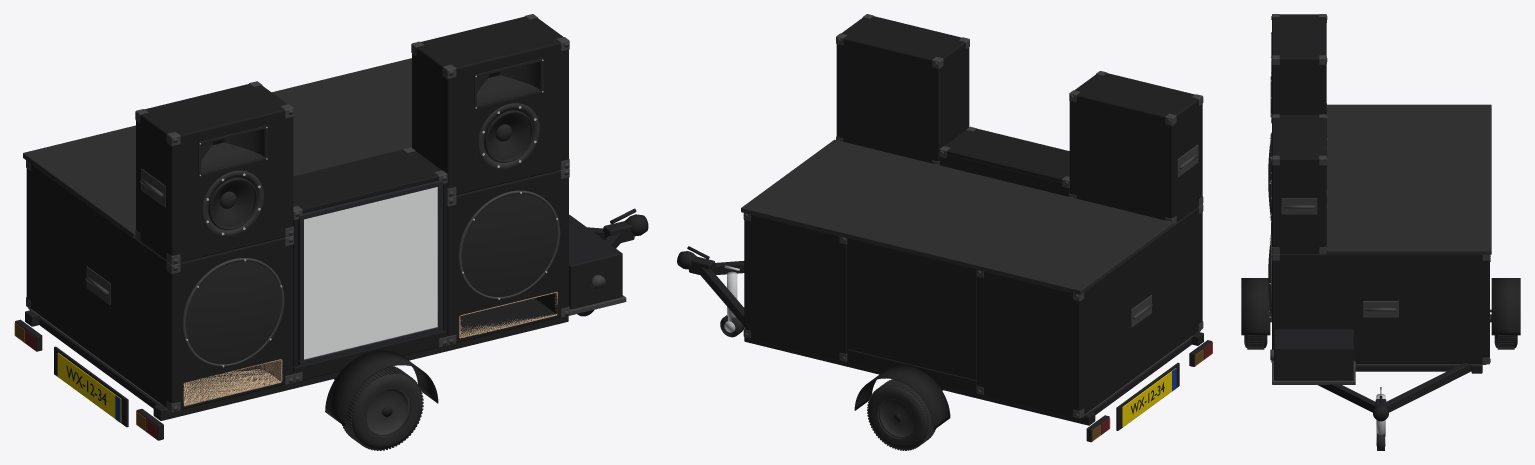
Rendered from speaker_trailer_70.glb.
3 renders of one model, left to right at view 1: azimuth 30°, elevation 25°; view 2: azimuth 150°, elevation 25°; view 3: azimuth 270°, elevation 25°, orthographic. The views are drawn at different scales.
Visible parts, largest first — view 1: L_sub, panel_front_glass, panel_front_film, L_top, desk_top, R_top, R_sub, L_sub_grille, R_sub_grille, C_top_plate, fog_machine, tyre (+22 smaller); view 2: desk_top, L_sub, L_top, R_top, C_rear, R_sub, C_top_plate, tyre.001, mudguard.001, chassis_rail.001, C_back, C_plinth (+4 smaller); view 3: desk_top, R_sub, R_top, L_top, fog_machine, mudguard.001, mudguard, drawbar.001, chassis_cross.002, drawbar, R_top_handle_out_dish, R_sub_handle_out_dish (+1 smaller).
Boxes of the visible parts, left/top/right/bottom form: L_sub: left=26, top=164, right=293, bottom=409; panel_front_glass: left=304, top=187, right=437, bottom=359; panel_front_film: left=304, top=187, right=437, bottom=359; L_top: left=136, top=84, right=293, bottom=262; desk_top: left=23, top=58, right=411, bottom=238; R_top: left=412, top=16, right=568, bottom=194; R_sub: left=447, top=170, right=568, bottom=342; L_sub_grille: left=185, top=261, right=281, bottom=364; R_sub_grille: left=461, top=194, right=557, bottom=296; C_top_plate: left=293, top=149, right=441, bottom=213; fog_machine: left=569, top=214, right=622, bottom=309; tyre: left=345, top=368, right=422, bottom=449; desk_top: left=741, top=139, right=1173, bottom=294; L_sub: left=977, top=207, right=1202, bottom=416; L_top: left=1069, top=73, right=1202, bottom=221; R_top: left=836, top=16, right=969, bottom=163; C_rear: left=847, top=238, right=977, bottom=379; R_sub: left=744, top=214, right=847, bottom=359; C_top_plate: left=944, top=128, right=1069, bottom=182; tyre.001: left=868, top=381, right=932, bottom=449; mudguard.001: left=854, top=366, right=950, bottom=429; chassis_rail.001: left=744, top=337, right=1095, bottom=425; C_back: left=943, top=154, right=1065, bottom=195; C_plinth: left=847, top=349, right=977, bottom=392; desk_top: left=1326, top=104, right=1491, bottom=254; R_sub: left=1272, top=253, right=1489, bottom=363; R_top: left=1272, top=115, right=1326, bottom=253; L_top: left=1272, top=14, right=1326, bottom=114; fog_machine: left=1274, top=329, right=1353, bottom=380; mudguard.001: left=1491, top=278, right=1520, bottom=335; mudguard: left=1241, top=278, right=1270, bottom=335; drawbar.001: left=1386, top=363, right=1470, bottom=412; chassis_cross.002: left=1355, top=365, right=1471, bottom=371; drawbar: left=1318, top=383, right=1375, bottom=412; R_top_handle_out_dish: left=1281, top=198, right=1317, bottom=214; R_sub_handle_out_dish: left=1363, top=301, right=1398, bottom=317.
Size of the model in its own units: 2.66 by 1.59 by 1.54.
